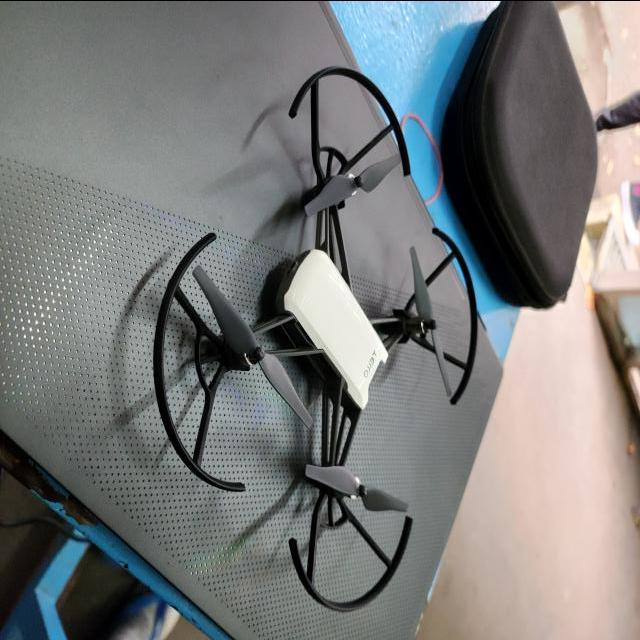drone: (147, 58, 484, 622)
